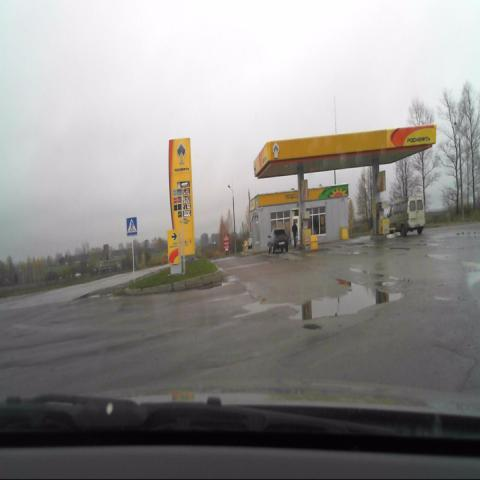5_19_1: (126, 216, 138, 236)
